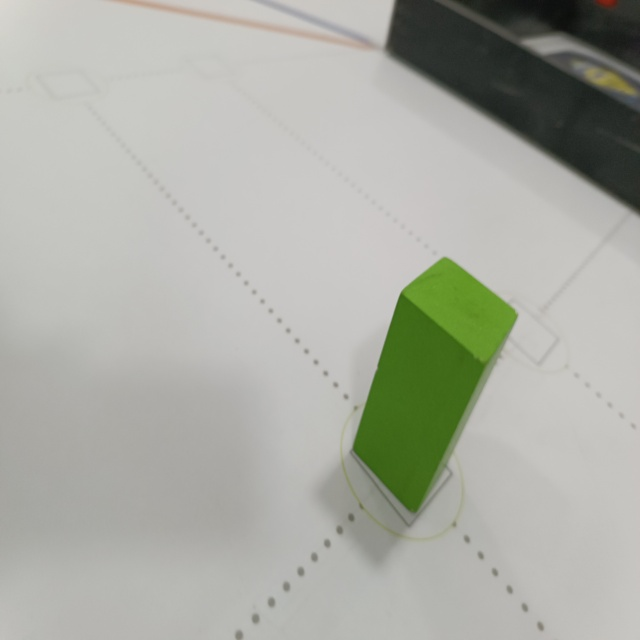blue line: (257, 0, 377, 44)
green rectangular prism: (347, 257, 524, 521)
orange line: (120, 0, 379, 48)
